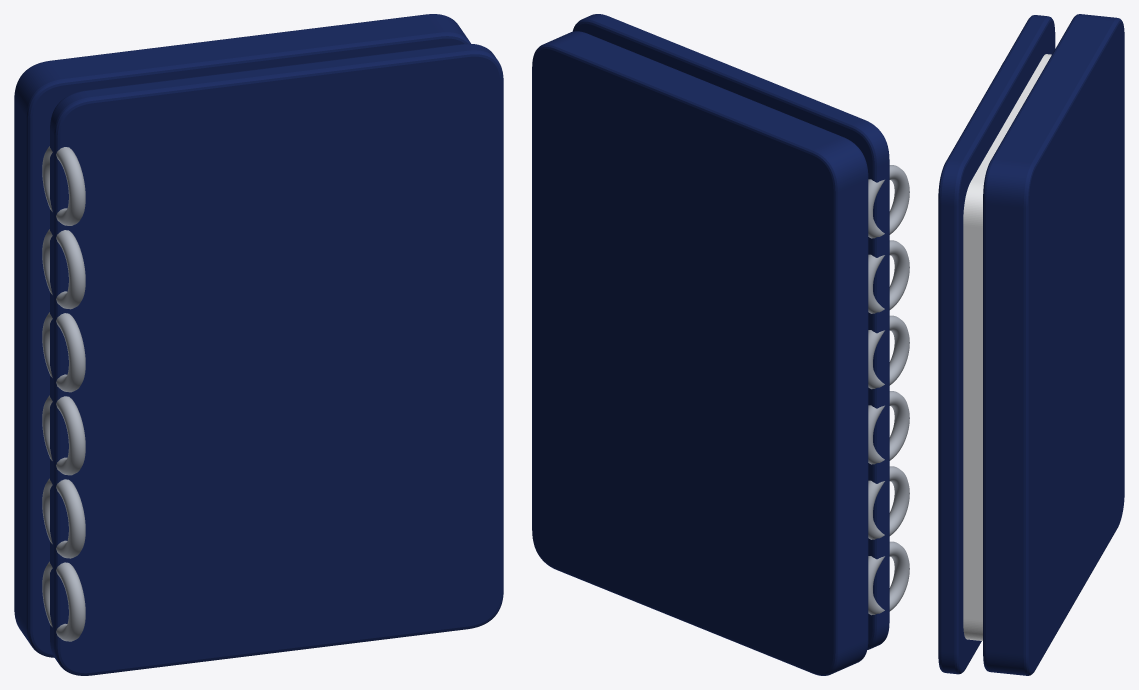
3 renders of one model, left to right at view 1: azimuth 30°, elevation 25°; view 2: azimuth 150°, elevation 25°; view 3: azimuth 270°, elevation 25°, orthographic. The views are drawn at different scales.
Parts seen in each view (by area): view 1: front notebook cover, navy notebook cover, rounded metal arc (×6); view 2: navy notebook cover, front notebook cover, rounded metal arc (×6); view 3: navy notebook cover, front notebook cover, visible paper block.
Part boxes in pixels (x1,y1,x2,y2): front notebook cover: (50, 43, 503, 675); navy notebook cover: (14, 14, 470, 657); rounded metal arc (×6): (42, 146, 85, 641); navy notebook cover: (532, 31, 868, 675); front notebook cover: (572, 14, 889, 649); rounded metal arc (×6): (868, 165, 909, 615); navy notebook cover: (983, 14, 1124, 675); front notebook cover: (938, 15, 1055, 674); visible paper block: (963, 54, 1051, 640).
Size of the model in its own units: 1.37 by 1.88 by 0.6241.
